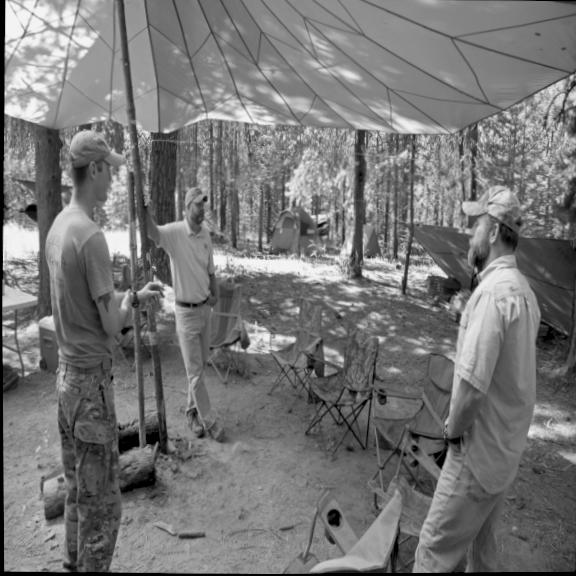no_safety_vest: (444, 270, 539, 483), (44, 203, 121, 372), (166, 209, 218, 316)
